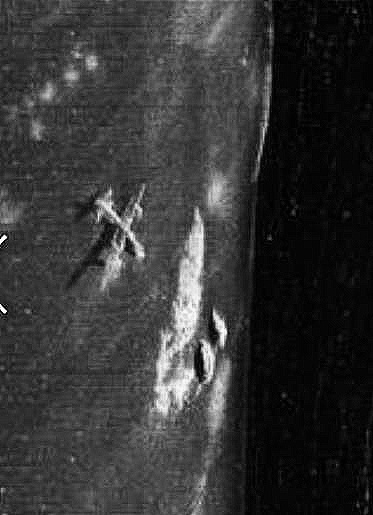plane: (84, 181, 153, 283)
